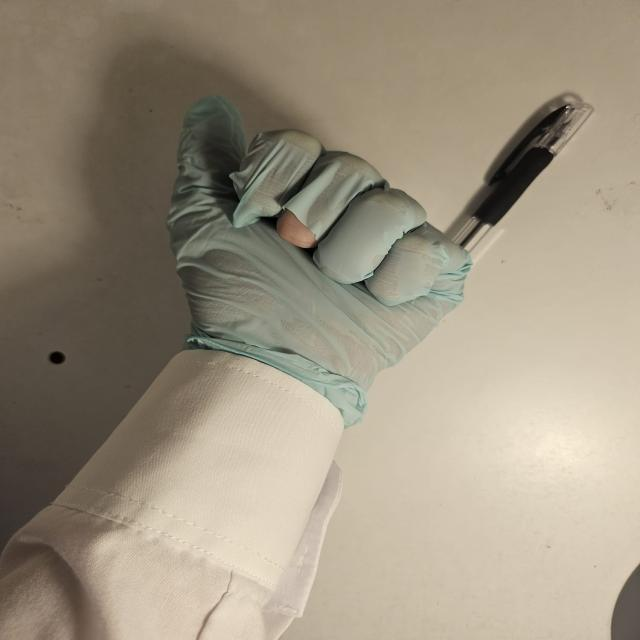gloves_damaged: (159, 101, 477, 418)
